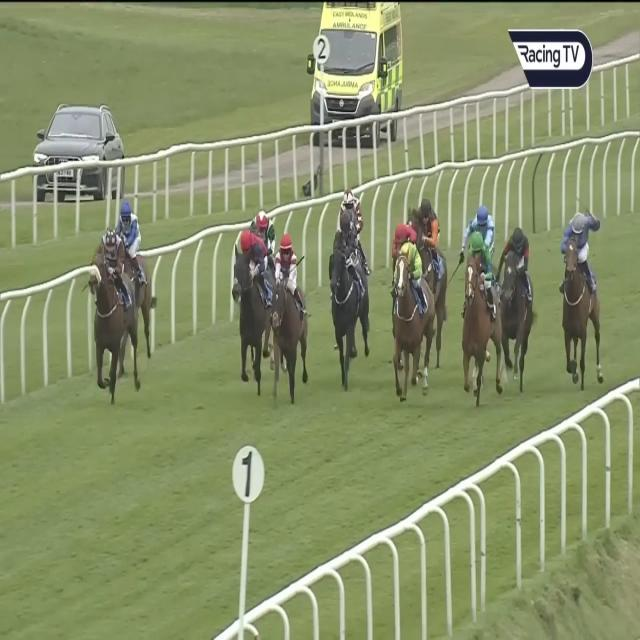horses-racing: (85, 227, 137, 379), (224, 231, 275, 379), (326, 213, 368, 384), (564, 205, 598, 395), (392, 242, 426, 407), (498, 222, 531, 390), (274, 239, 303, 401), (118, 202, 153, 333), (466, 228, 491, 394), (417, 198, 451, 304), (335, 188, 363, 249), (382, 219, 419, 264), (466, 206, 493, 253), (245, 212, 276, 252)
